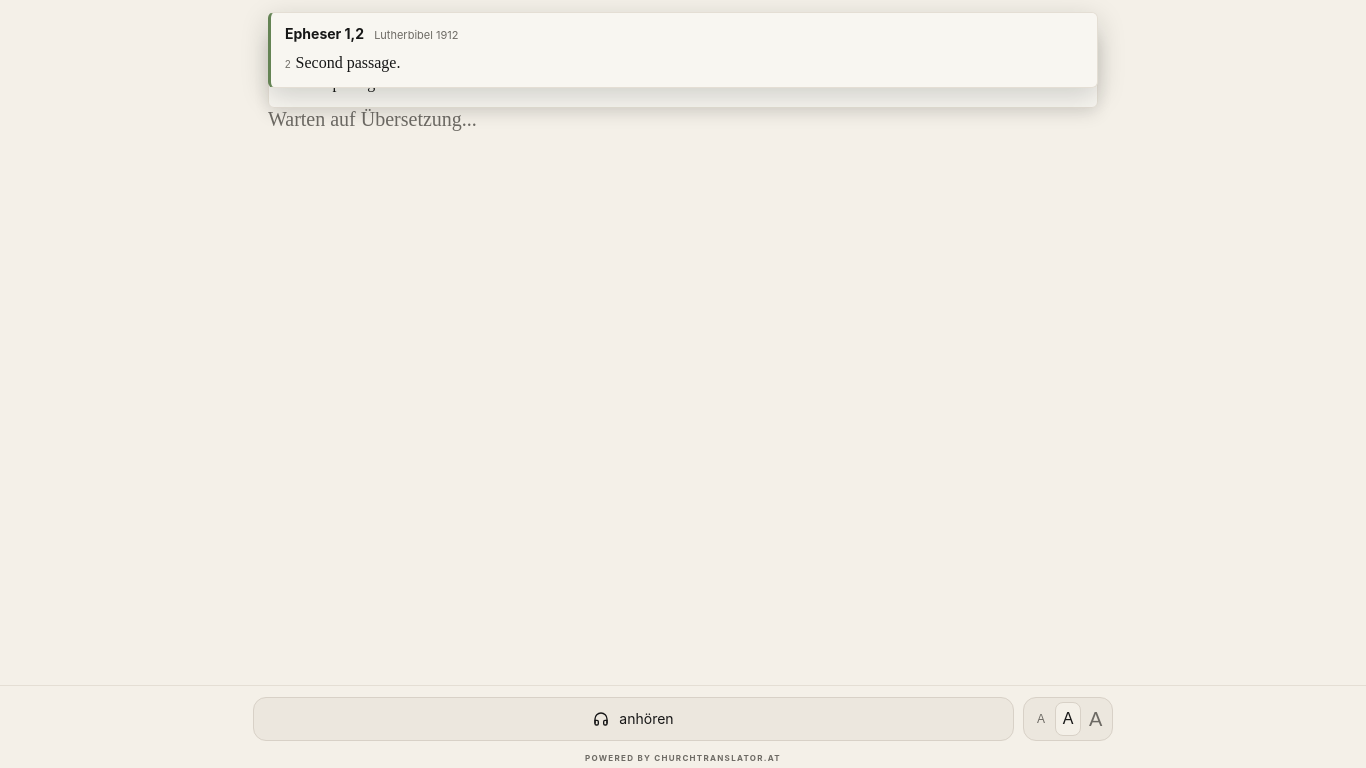
Test: Listener experience › reveals the next received scripture when the top card is clicked
Click the button with aria-label "Bibeltext schließen" at (325, 34), box [268,12,1098,88]
Wait 460 ms
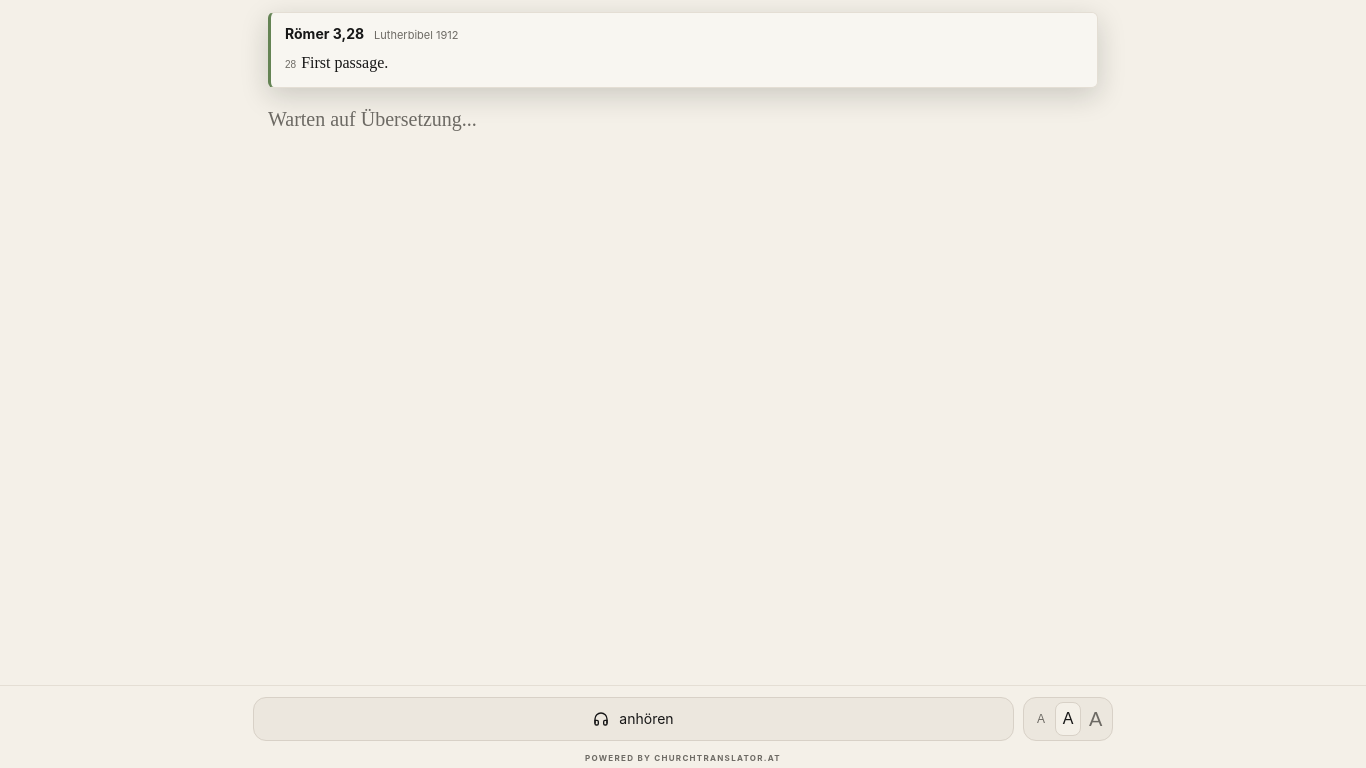
Expected: the button with aria-label "Bibeltext schließen" shows "First passage.", [268,12,1098,88]
